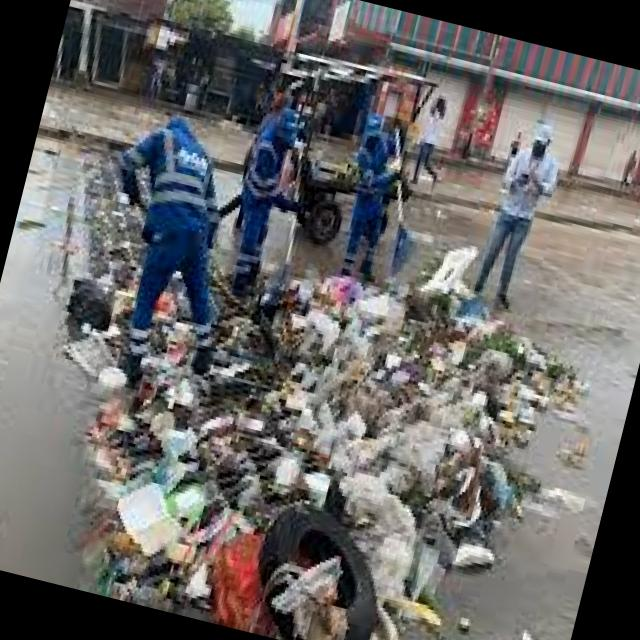garbage: (1, 215, 579, 640)
